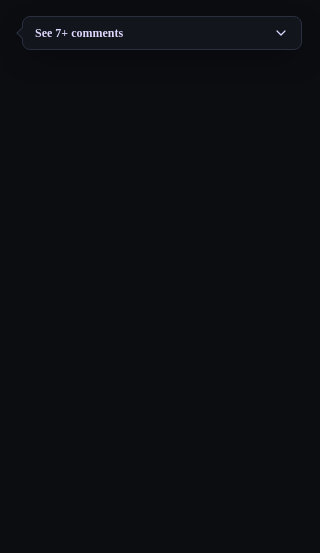
Test: comment sidebar scroll range › bundles seven comments that would overlap at the same parent text
Click the button with test id "button-comment-bundle-comment-1".
click(79, 33)  # box [23,17,301,49]
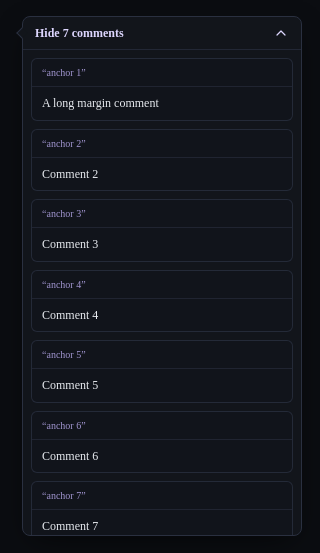
Result: the button with test id "button-comment-bundle-comment-1" reads "Hide 7 comments" at [23,17,301,49]
